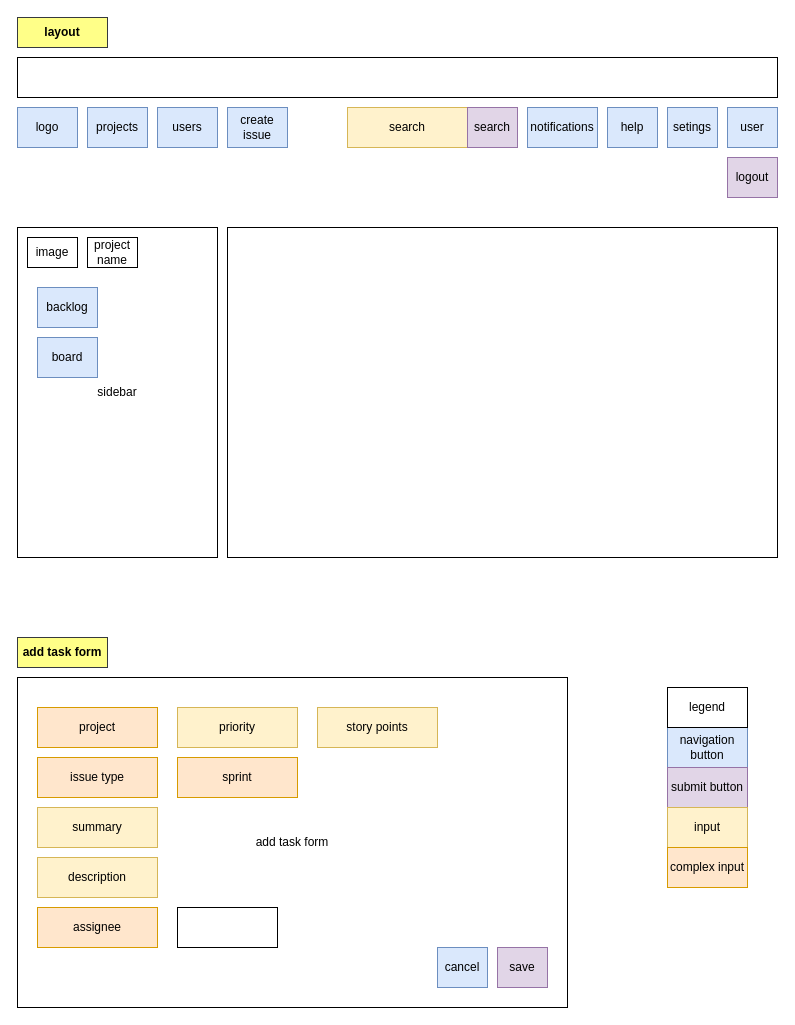
Some shapes in this 795 by 1025 pixel diagram are drawn without their labels. Each missing label, with the centre of its shape:
content: the point at 502,392
form header: the point at 227,927
navbar: the point at 397,77
